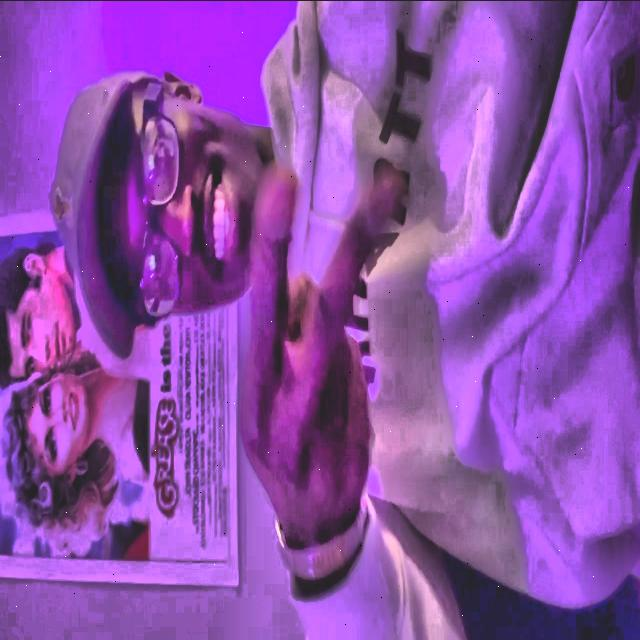not-gloved: (236, 159, 408, 546)
